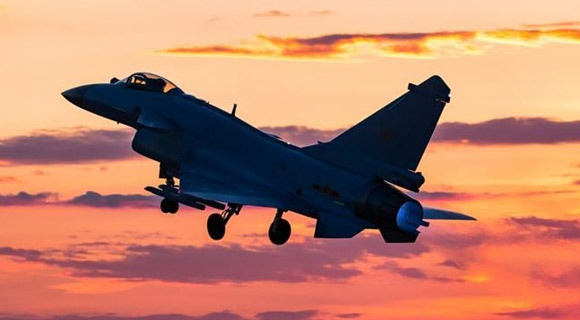airplane: (59, 64, 480, 244)
